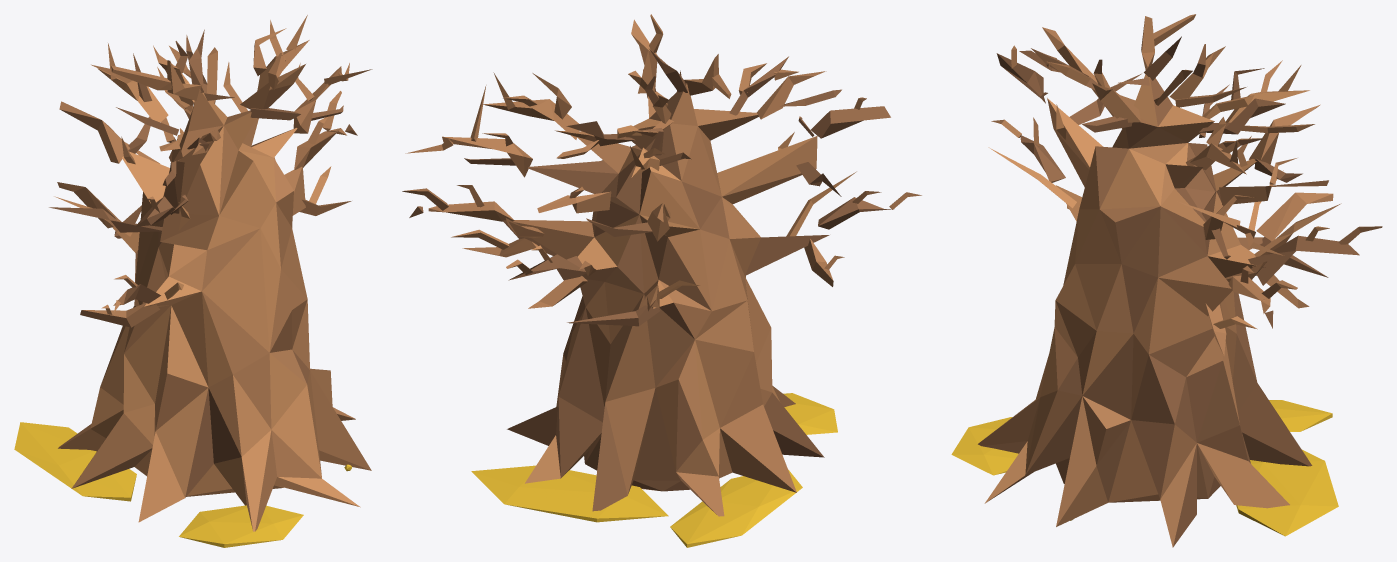
File: giant_baobab_bare_far.glb
3 views of the same model, side by side, from view 1: azimuth 30°, elevation 25°; view 2: azimuth 150°, elevation 25°; view 3: azimuth 270°, elevation 25° (orthographic). The views are drawn at different scales.
Parts seen in each view (by area): view 1: giant_baobab_bare_far; view 2: giant_baobab_bare_far; view 3: giant_baobab_bare_far.
Boxes of the visible parts, box(x1,y1,x2,y2) form: giant_baobab_bare_far: box(14, 15, 372, 547); giant_baobab_bare_far: box(402, 14, 921, 547); giant_baobab_bare_far: box(951, 14, 1382, 547).
Size of the model in its own units: 23.86 by 25.41 by 22.64.
